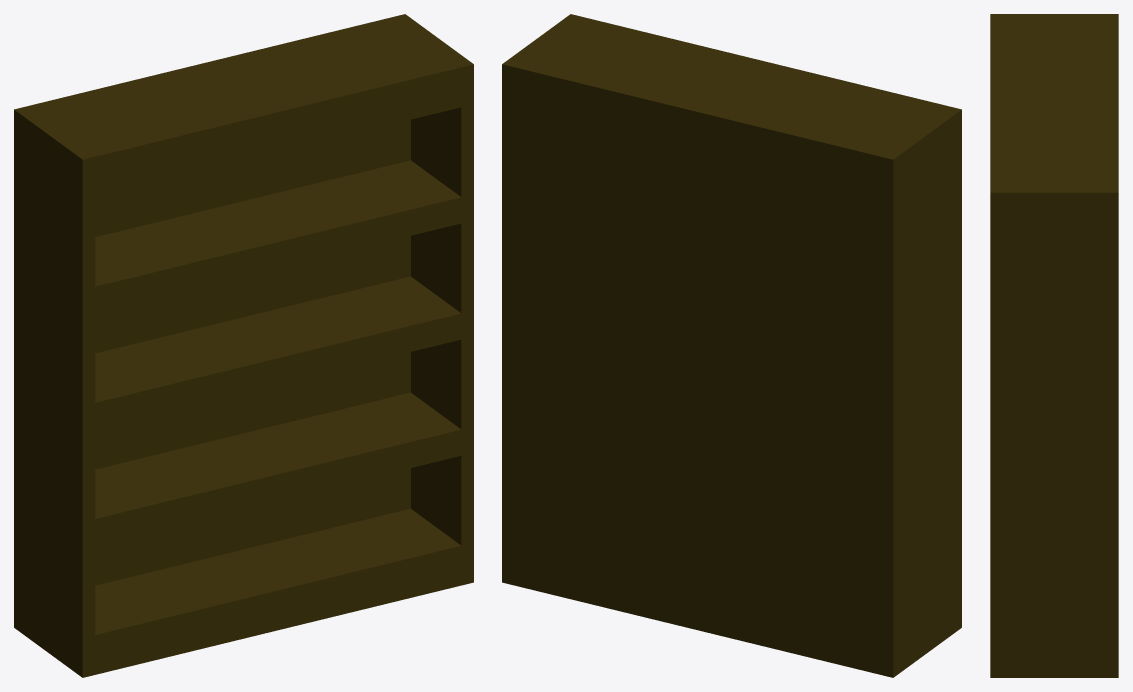
Rendered from szafa.fbx.
3 renders of one model, left to right at view 1: azimuth 30°, elevation 25°; view 2: azimuth 150°, elevation 25°; view 3: azimuth 270°, elevation 25°, orthographic. The views are drawn at different scales.
Visible parts, largest first — view 1: Cube; view 2: Cube; view 3: Cube.
Part boxes in pixels (<box>): Cube: <box>14,14,473,677</box>; Cube: <box>502,14,961,677</box>; Cube: <box>990,14,1118,677</box>.
Size of the model in its own units: 153 by 193 by 46.49.
